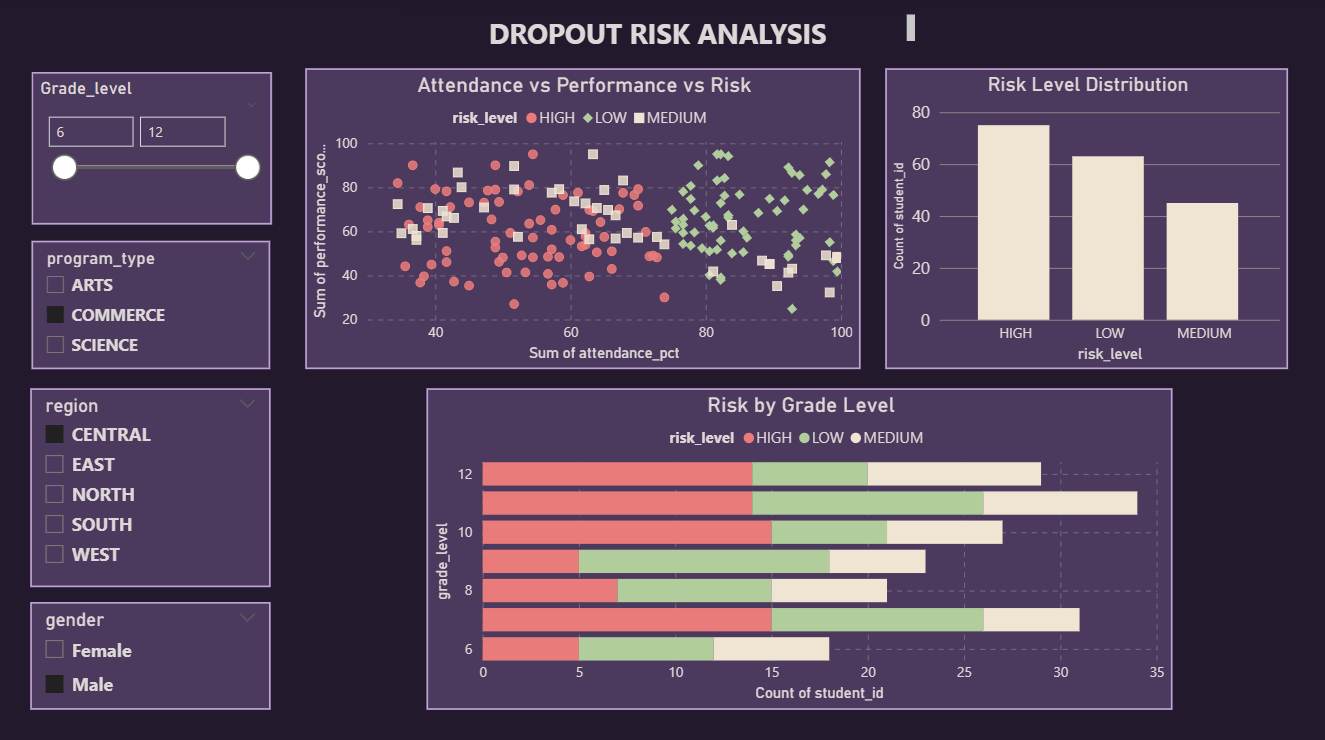

What the dashboard file says about the page in this screenshot:
{"tool":"powerbi","page":{"name":"DROPOUT RISK ANALYSIS","canvas":[1280,720],"ordinal":1},"visuals":[{"type":"slicer","title":"Grade_level","fields":{"Values":["gold_student_risk_profile.grade_level"]},"box":[31.4,72.4,231.6,147.2],"z":0},{"type":"slicer","fields":{"Values":["gold_student_risk_profile.program_type"]},"box":[31.4,235.3,230.4,124.3],"z":1000},{"type":"slicer","fields":{"Values":["gold_student_risk_profile.region"]},"box":[30.2,377.6,231.6,191.8],"z":2000},{"type":"slicer","fields":{"Values":["gold_student_risk_profile.gender"]},"box":[30.2,583.9,231.6,103.8],"z":3000},{"type":"clusteredColumnChart","title":"Risk Level Distribution","fields":{"Category":["gold_student_risk_profile.risk_level"],"Y":["CountNonNull(gold_student_risk_profile.student_id)"]},"box":[855.4,68.8,388.5,290.8],"z":4000},{"type":"barChart","title":"Risk by Grade Level","fields":{"Category":["gold_student_risk_profile.grade_level"],"Series":["gold_student_risk_profile.risk_level"],"Y":["CountNonNull(gold_student_risk_profile.student_id)"]},"box":[412.6,377.6,720.2,310.1],"z":5000},{"type":"scatterChart","title":"Attendance vs Performance vs Risk","fields":{"X":["Sum(gold_student_risk_profile.attendance_pct)"],"Y":["Sum(gold_student_risk_profile.performance_score)"],"Series":["gold_student_risk_profile.risk_level"],"Category":["gold_student_risk_profile.student_id"]},"box":[295.6,68.8,535.7,290.8],"z":6000},{"type":"textbox","box":[389.7,12.1,499.5,39.8],"z":7000}]}

Visuals, with their boxes in screenshot pixels (x1, y1, x2, y2), scaled from the page's 1280x720 canvas onto the 1325x740 screenshot:
"Grade_level" slicer: 33,74,272,226
slicer - gold_student_risk_profile.program_type: 33,242,271,370
slicer - gold_student_risk_profile.region: 31,388,271,585
slicer - gold_student_risk_profile.gender: 31,600,271,707
"Risk Level Distribution" clusteredColumnChart: 885,71,1288,370
"Risk by Grade Level" barChart: 427,388,1173,707
"Attendance vs Performance vs Risk" scatterChart: 306,71,861,370
textbox: 403,12,920,53
